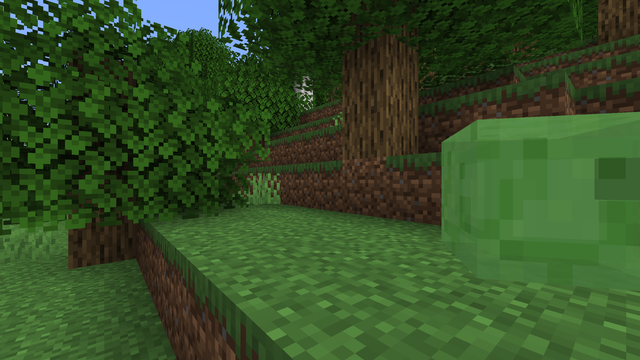slimes: (427, 94, 631, 306)
